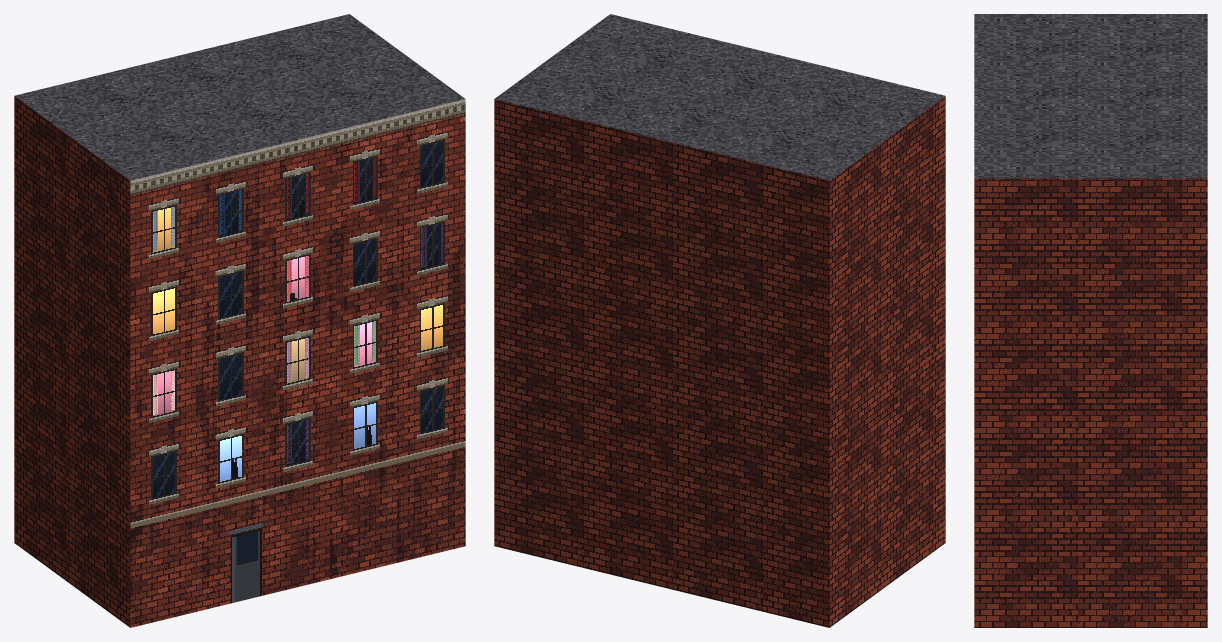
Rendered from Kulisse_10.glb.
3 renders of one model, left to right at view 1: azimuth 30°, elevation 25°; view 2: azimuth 150°, elevation 25°; view 3: azimuth 270°, elevation 25°, orthographic.
Visible parts, largest first — view 1: Kulisse_10; view 2: Kulisse_10; view 3: Kulisse_10.
Part boxes in pixels (left/top/right/bottom): Kulisse_10: left=14, top=14, right=465, bottom=627; Kulisse_10: left=494, top=14, right=945, bottom=627; Kulisse_10: left=974, top=14, right=1207, bottom=627.
Bounding box in the file's own units: 15 × 19.12 × 9.
Materials: 3 (3 with a texture image).
